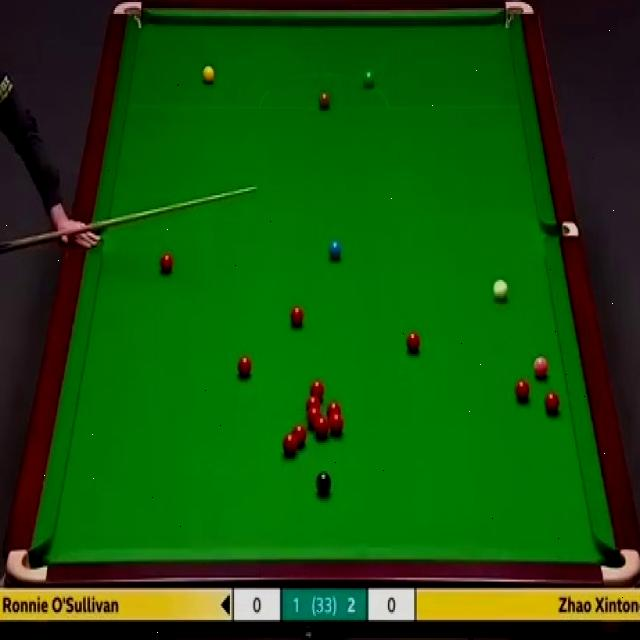black-ball: (316, 469, 332, 499)
blue-ball: (328, 238, 342, 260)
brown-ball: (318, 90, 331, 111)
green-ball: (362, 70, 375, 89)
pink-ball: (533, 354, 549, 380)
red-ball: (236, 354, 254, 381), (292, 426, 309, 450), (282, 433, 298, 458), (516, 378, 532, 402), (544, 392, 561, 414), (329, 413, 344, 437), (289, 306, 305, 328), (407, 330, 421, 355), (159, 254, 172, 278), (315, 416, 328, 438), (308, 380, 325, 396), (307, 408, 321, 427), (306, 395, 320, 411), (327, 404, 341, 416)
white-ball: (493, 278, 508, 304)
yellow-ball: (203, 66, 216, 86)
